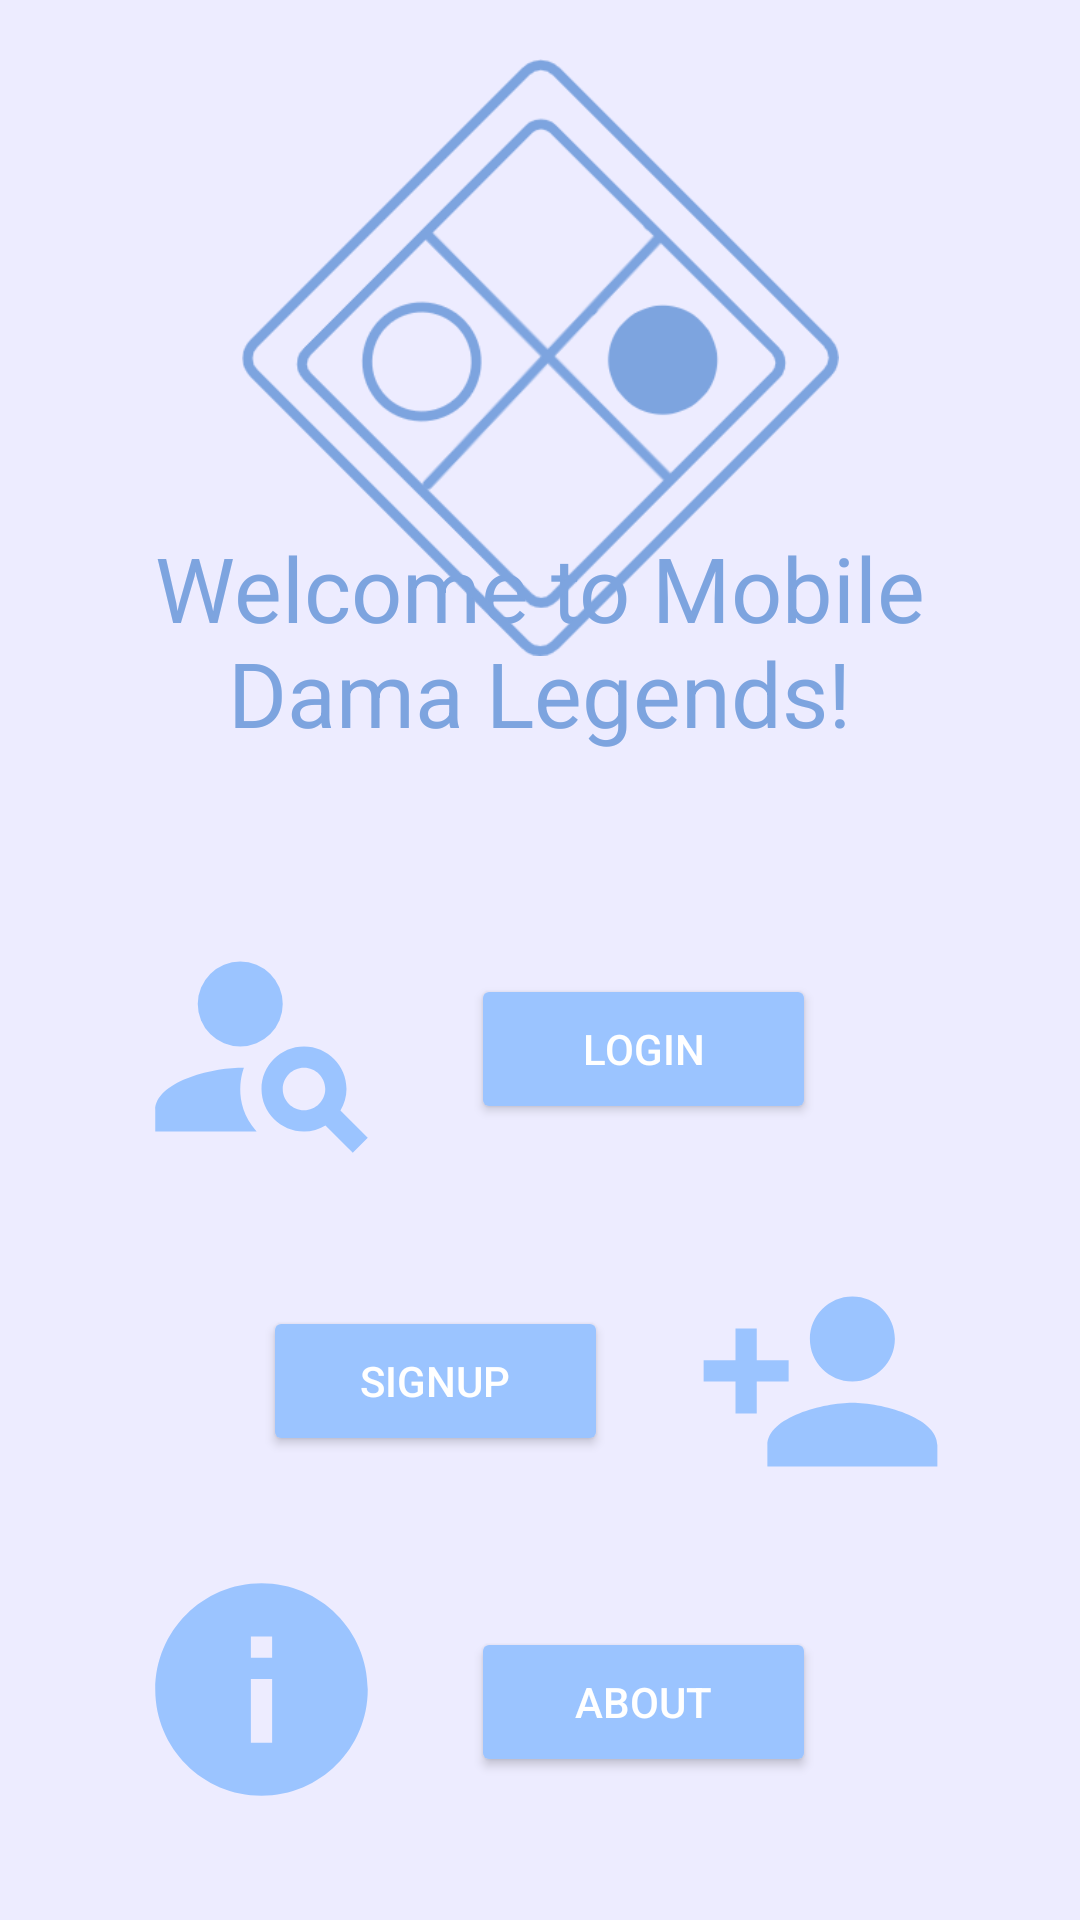

Named icons in this screenshot (1080w x 1920h) and their bounding boxes, bbox=(x1, y1, x2, y2):
info: bbox=(155, 1583, 368, 1796)
person add: bbox=(703, 1296, 938, 1467)
person search: bbox=(155, 961, 368, 1153)
